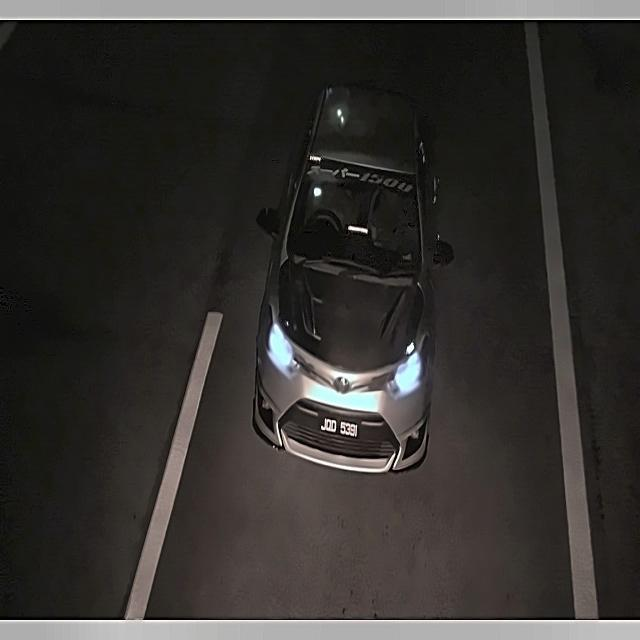car: (316, 409, 363, 443)
